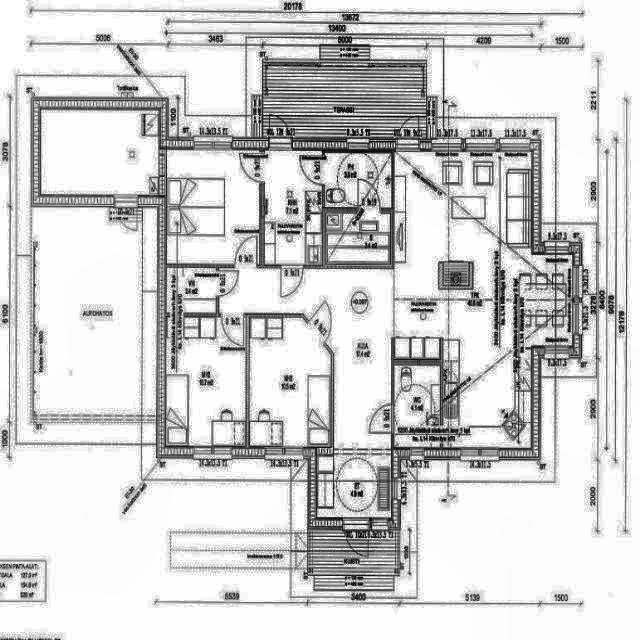room: (166, 150, 259, 263), (249, 318, 331, 446), (40, 110, 159, 194), (167, 317, 245, 444), (265, 152, 321, 264), (317, 455, 391, 518), (325, 153, 391, 207), (326, 214, 390, 263), (394, 365, 440, 429), (167, 268, 216, 313)
